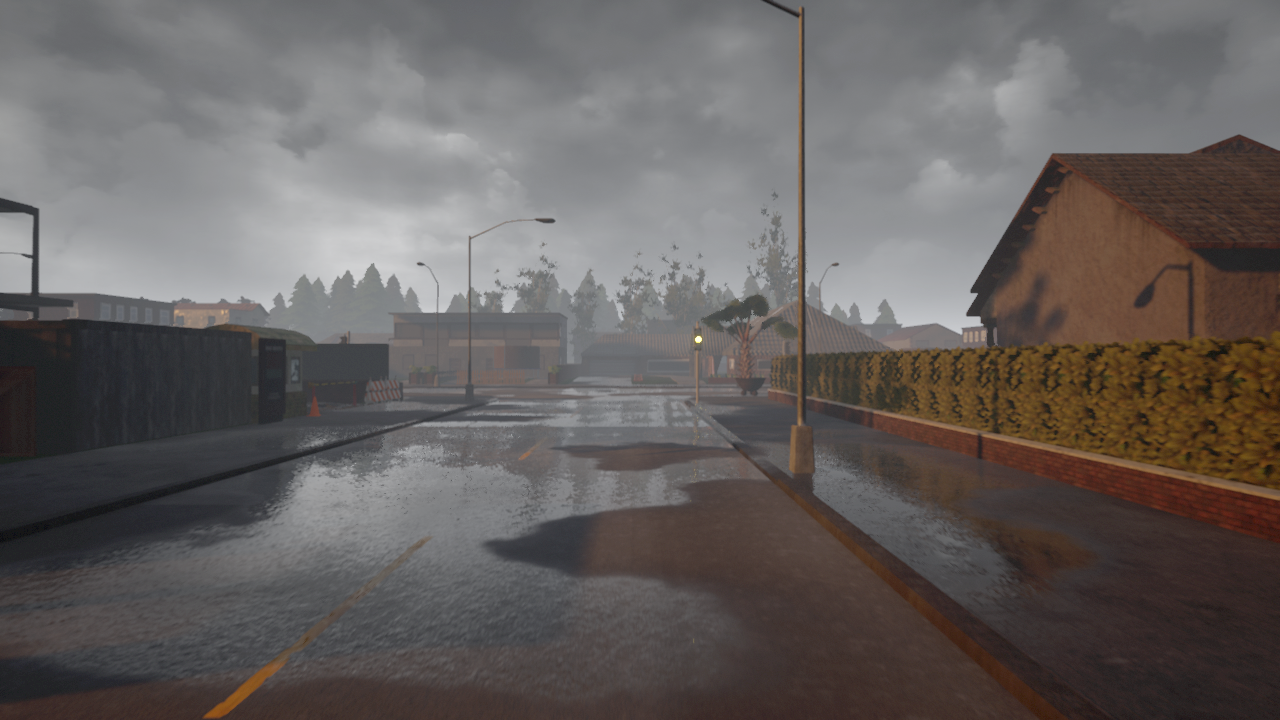yellow: (692, 328, 702, 351)
